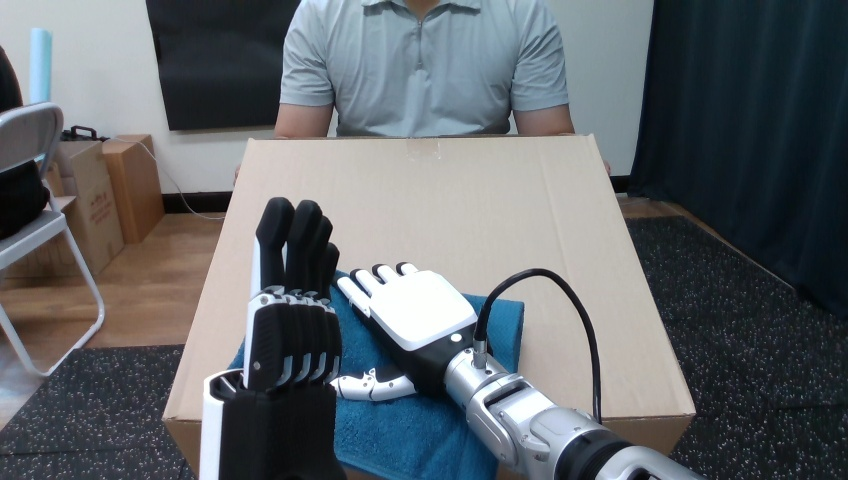left robot hand: (334, 263, 702, 479), (199, 197, 345, 479), (485, 275, 595, 416)
